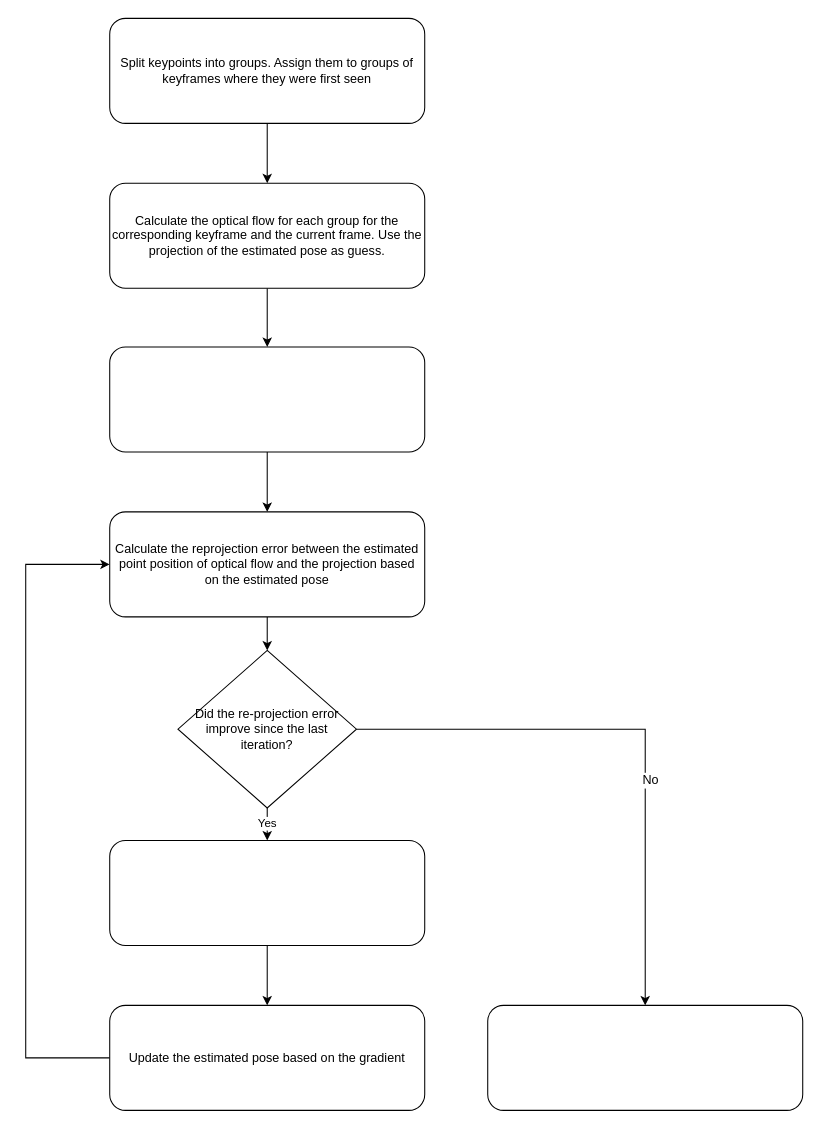
Image size: 821x1129. Some labels were removed from this diagram. Each missing label, with the centre of its shape:
"Calculate the gradient for delta pose at the current estimated pose" belongs at (x=267, y=892).
"Merge the keypoints back into one group for further use" belongs at (x=267, y=399).
"New estimate for pose found" belongs at (x=645, y=1057).
